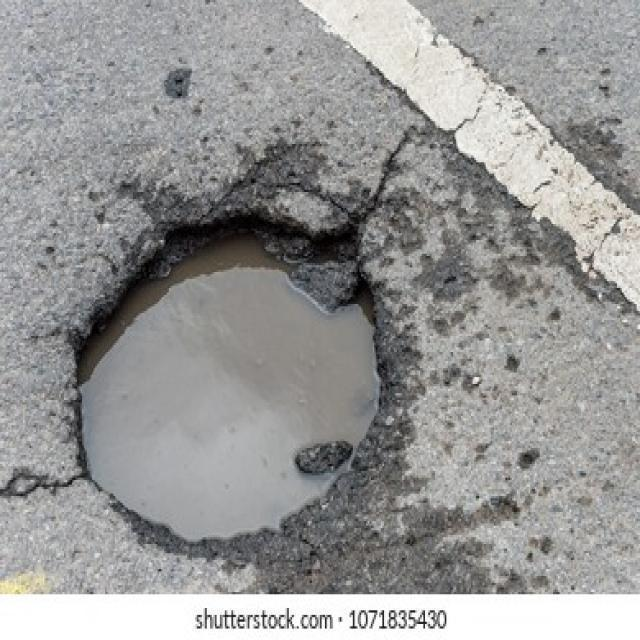pothole: (66, 192, 385, 549)
